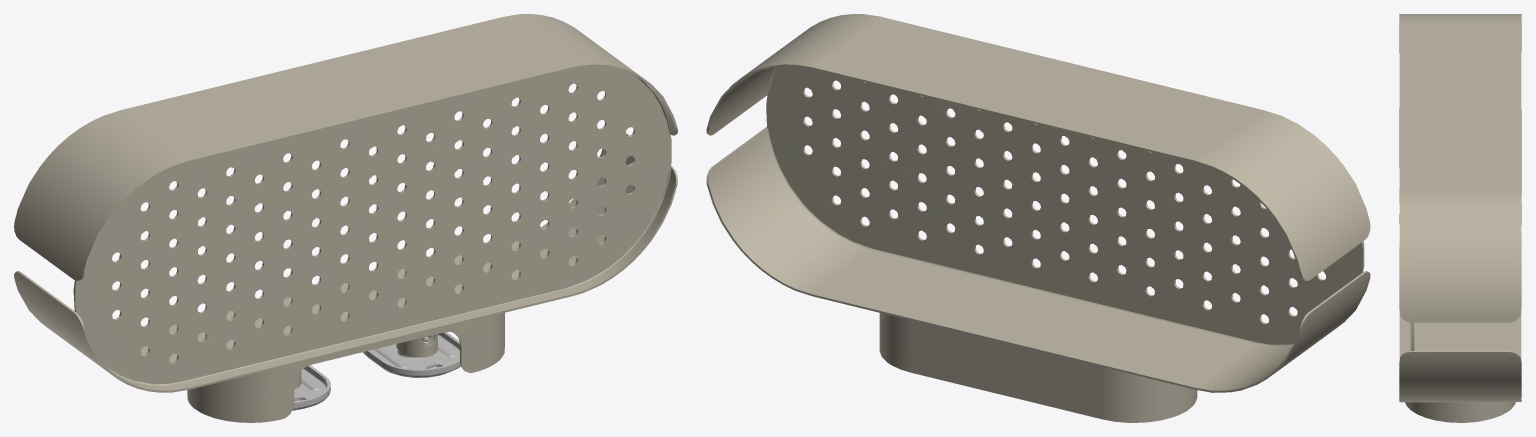
File: florsjon_poka_prysznicowa_70605143.glb
3 views of the same model, side by side, from view 1: azimuth 30°, elevation 25°; view 2: azimuth 150°, elevation 25°; view 3: azimuth 270°, elevation 25° (orthographic). The views are drawn at different scales.
Parts seen in each view (by area): view 1: florsjon_poka_prysznicowa_70605143; view 2: florsjon_poka_prysznicowa_70605143; view 3: florsjon_poka_prysznicowa_70605143.
Boxes of the visible parts, <box> form: florsjon_poka_prysznicowa_70605143: <box>14,14,677,422</box>; florsjon_poka_prysznicowa_70605143: <box>706,14,1370,422</box>; florsjon_poka_prysznicowa_70605143: <box>1399,14,1521,422</box>.
Size of the model in its own units: 0.2506 by 0.1137 by 0.0501.
Materials: 1 (1 with a texture image).
